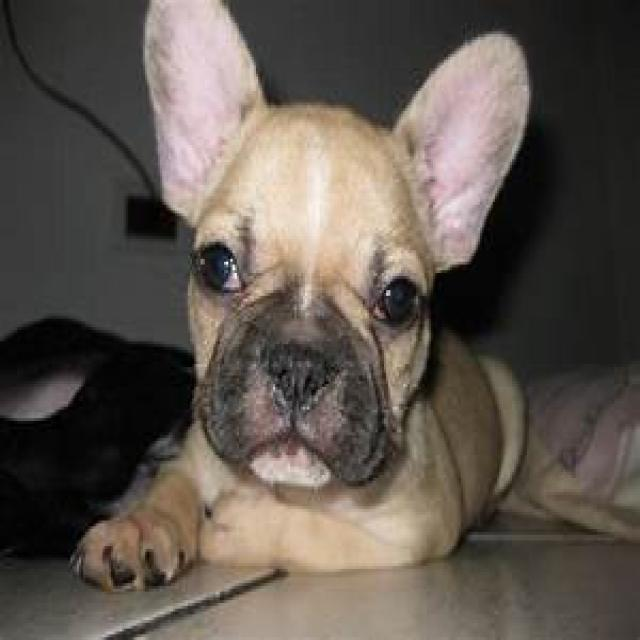animal: (76, 6, 560, 602)
